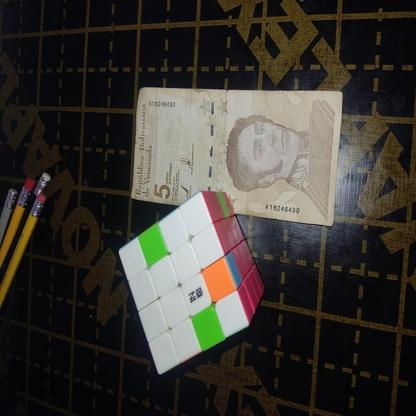five-front-vef: (130, 86, 342, 225)
